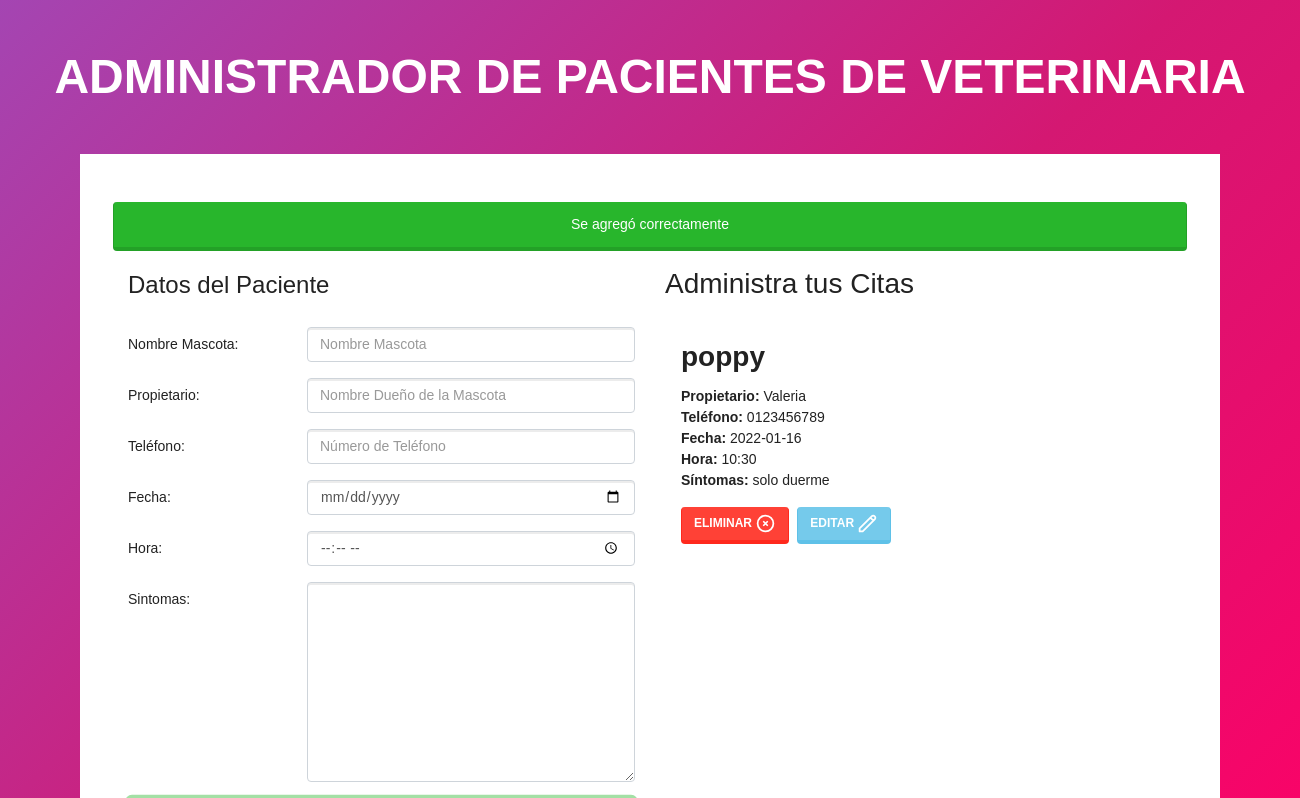
Test: Escribir en el formulario › Edita la cita
Click the button with test id "editar". click: [844, 526]
box: [797,507,891,544]
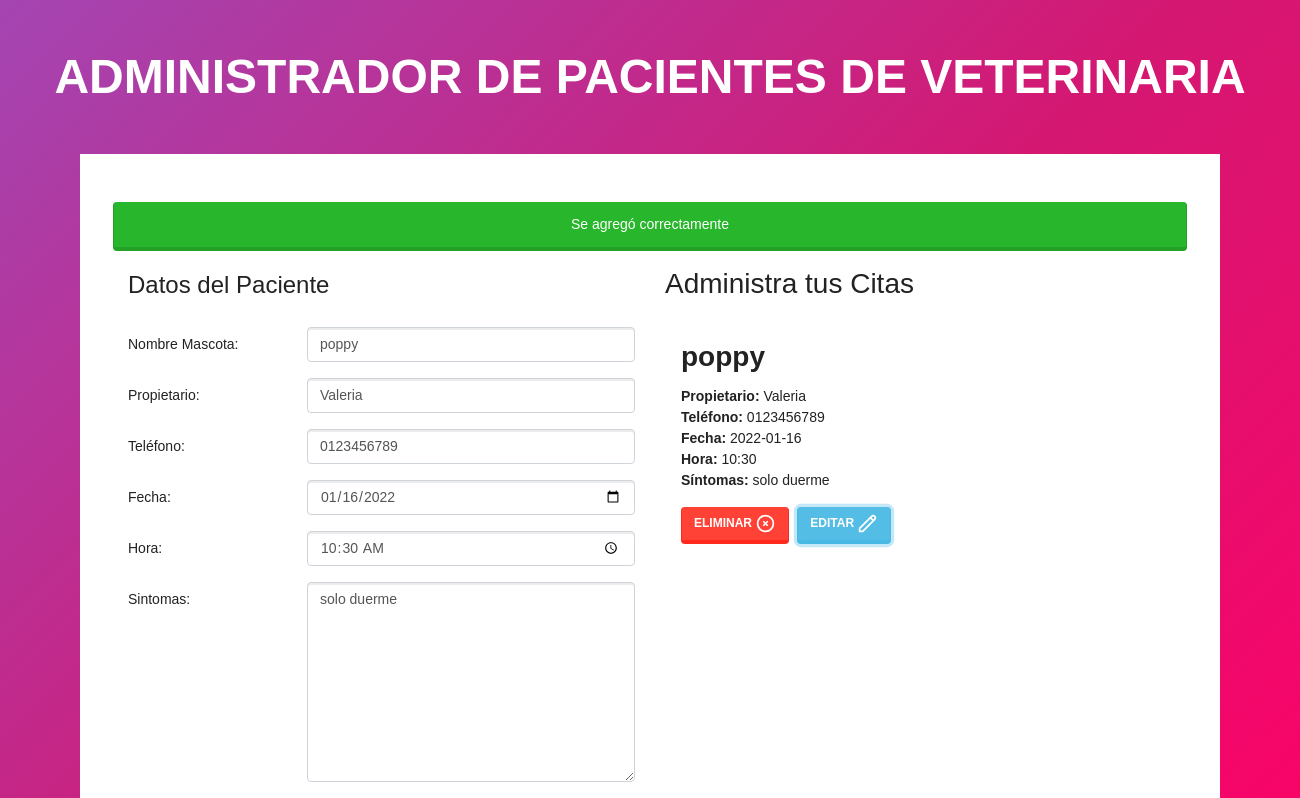
Replace the text in the text box with test id "sintomas-input" with "solo duerme y no come". click: [471, 682]
box: [307,582,635,782]
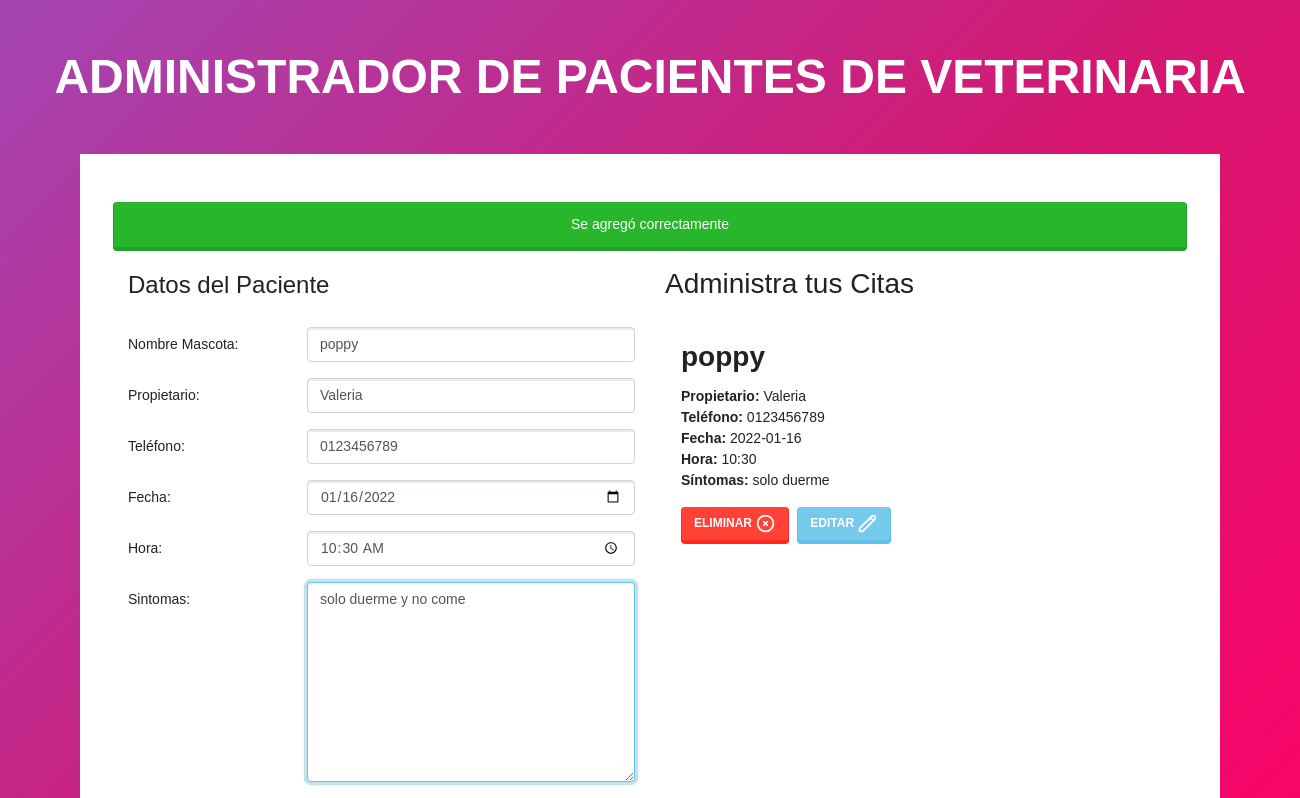
Scroll
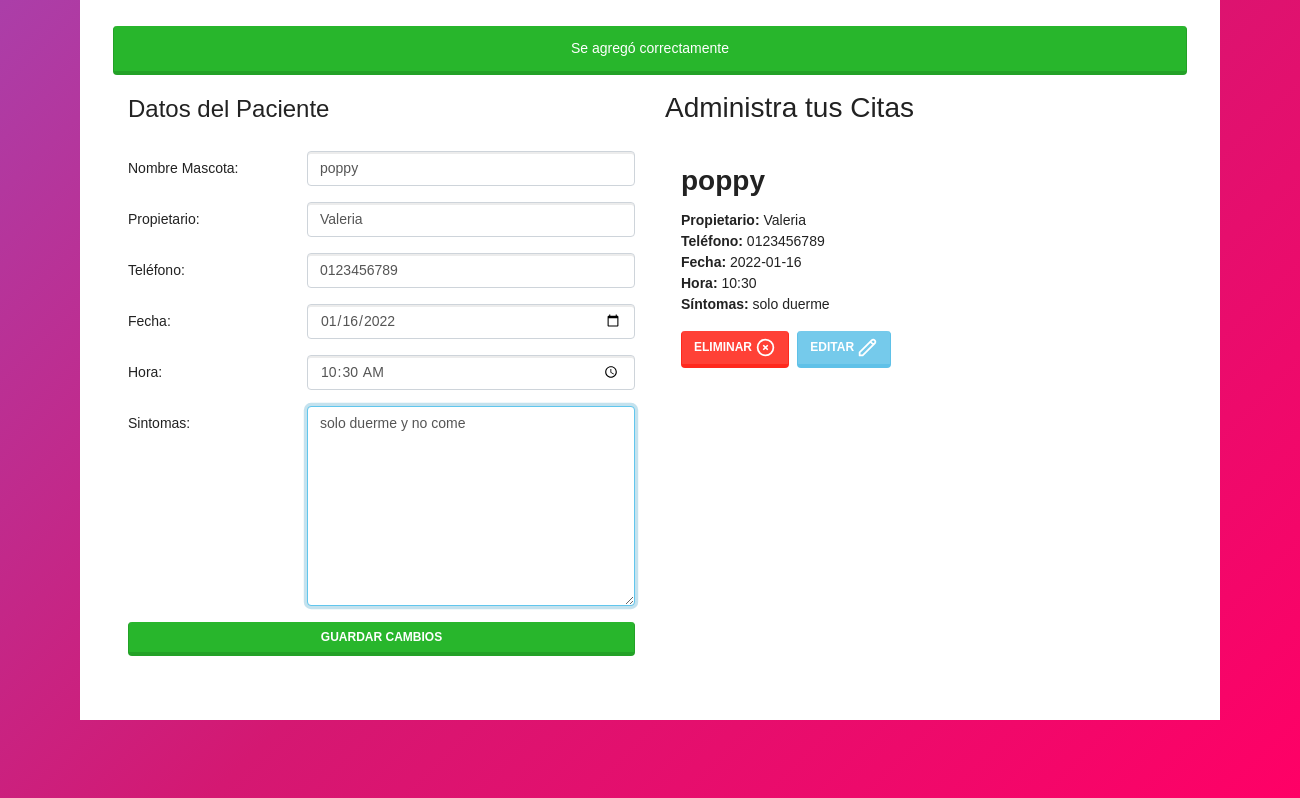
Click the button with test id "crear-cita". click: [382, 639]
box: [128,622,635,656]
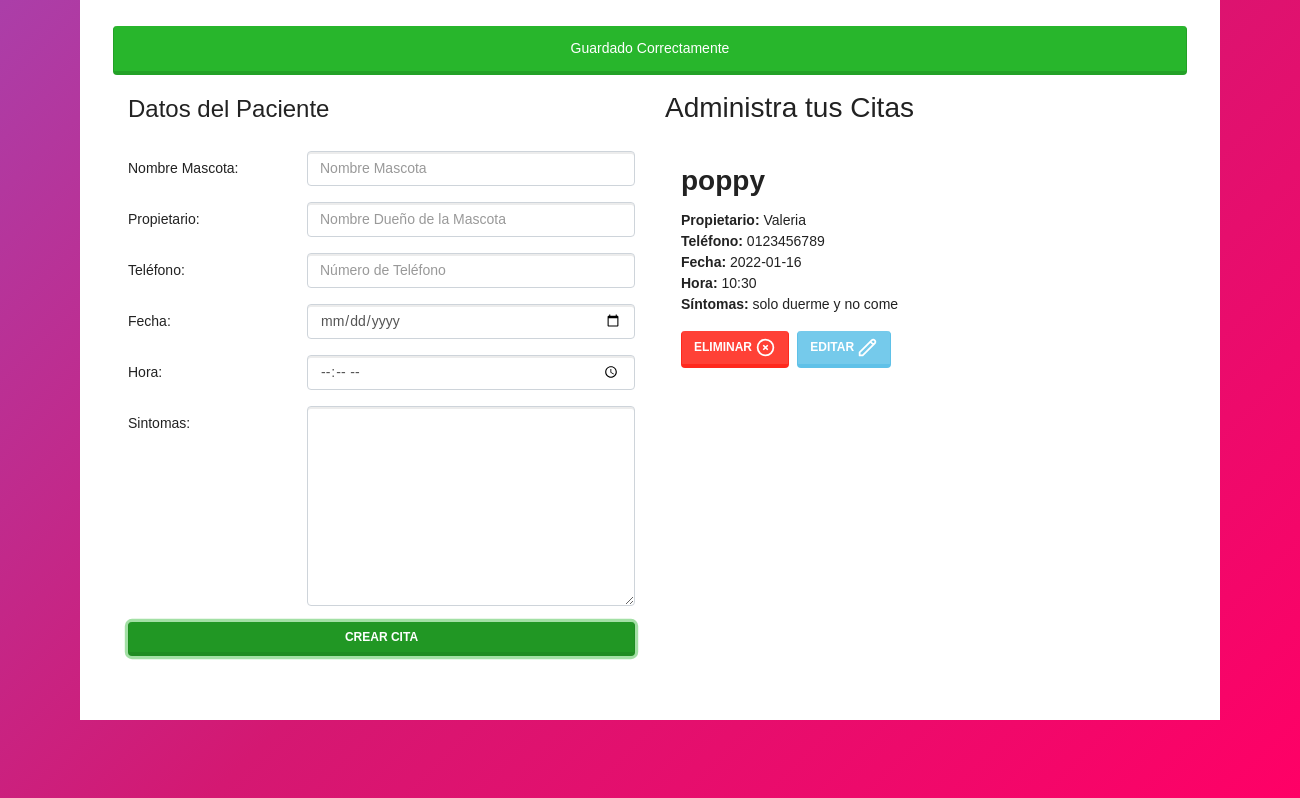
Check: the text with test id "alerta" reads "Guardado Correctamente", box [113,26,1187,75]
